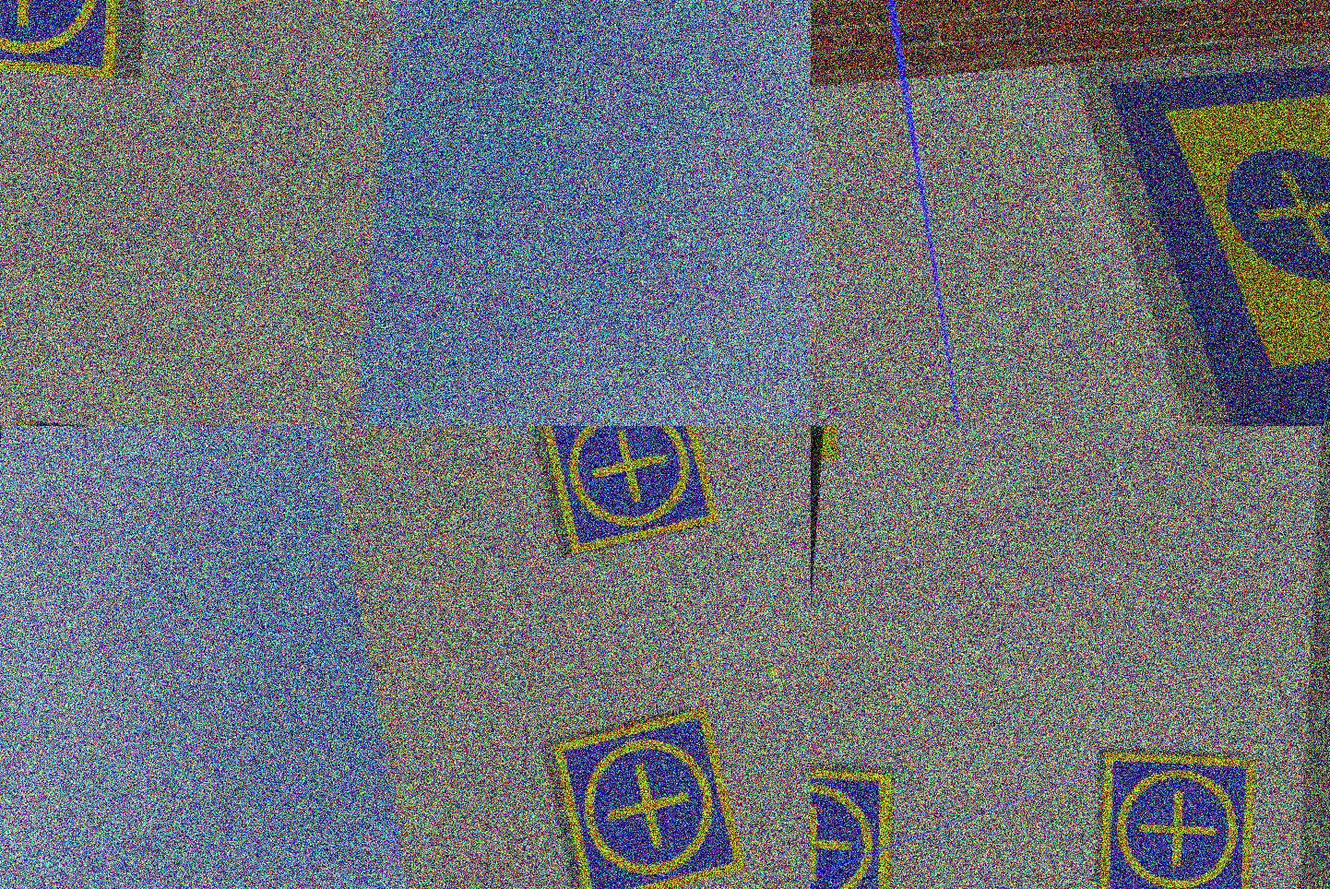large_base: (1085, 44, 1330, 426)
small_base: (538, 701, 756, 889), (530, 426, 733, 564), (1087, 750, 1264, 889), (1, 1, 134, 82), (812, 768, 898, 889)
